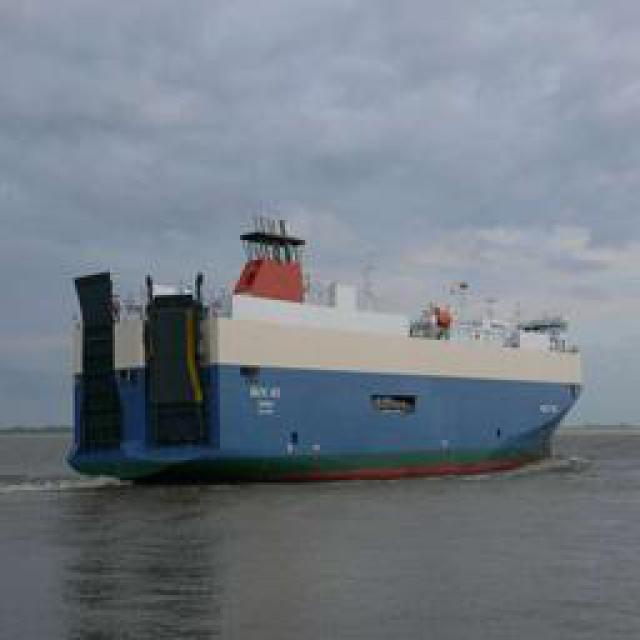Ship: (65, 214, 580, 479)
